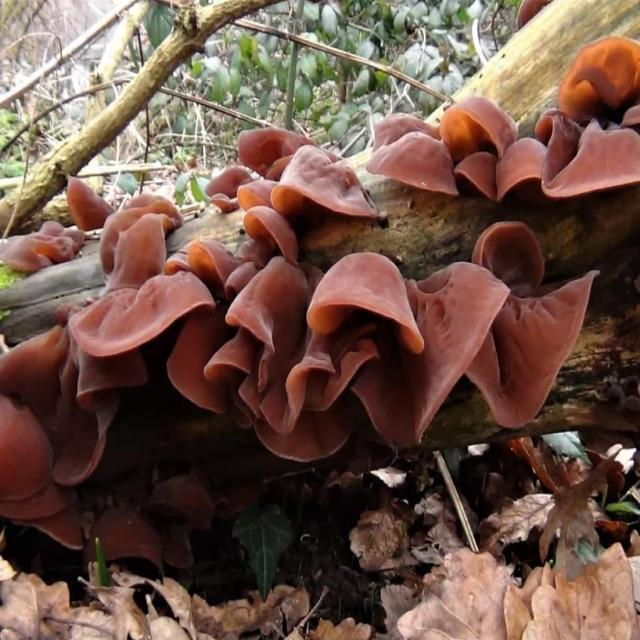Fase Muda: (1, 266, 604, 446), (12, 150, 365, 288), (539, 30, 640, 223), (12, 485, 212, 568), (365, 106, 544, 196)
